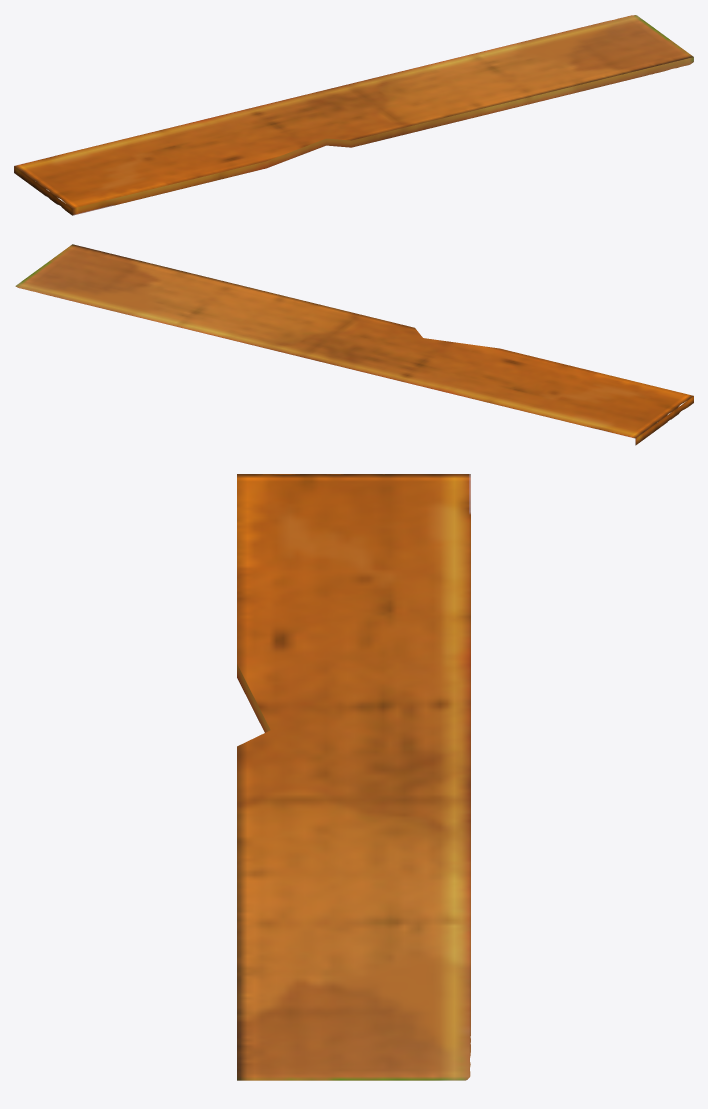
The model's file is plank.FBX.
3 views of the same model, one above another, from view 1: azimuth 30°, elevation 25°; view 2: azimuth 150°, elevation 25°; view 3: azimuth 270°, elevation 25° (orthographic). The views are drawn at different scales.
Parts seen in each view (by area): view 1: Box001; view 2: Box001; view 3: Box001.
Boxes of the visible parts, <box> form: Box001: <box>14,15,693,215</box>; Box001: <box>15,244,693,445</box>; Box001: <box>237,474,470,1080</box>.
Bounding box in the file's own units: 9.2 × 0.1 × 1.5.
Materials: 1 (1 with a texture image).
